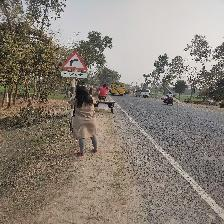Right-turn: (60, 51, 89, 79)
